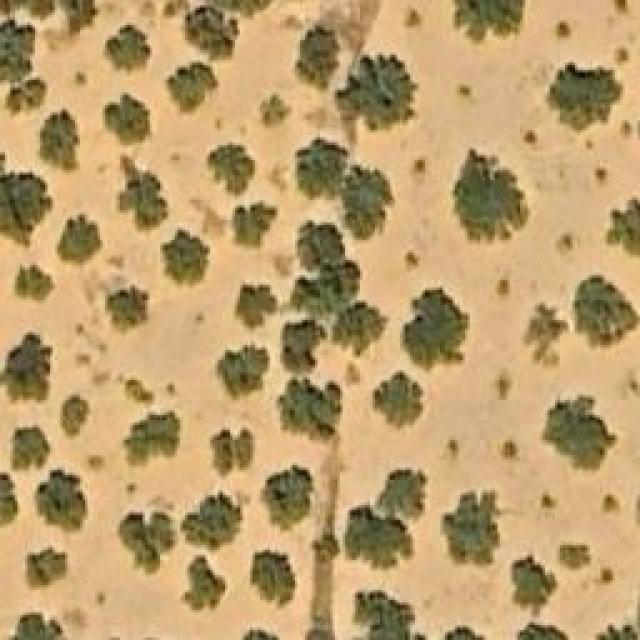Tree: (335, 53, 420, 143), (452, 148, 530, 243), (540, 395, 618, 473), (400, 290, 470, 373), (570, 275, 640, 350), (0, 145, 52, 245), (547, 65, 625, 130), (115, 147, 170, 235), (433, 0, 528, 48), (442, 493, 500, 566), (118, 513, 178, 576), (180, 490, 240, 553), (338, 168, 391, 238), (0, 332, 52, 402), (260, 465, 313, 533), (295, 260, 358, 316), (123, 410, 183, 468), (283, 380, 343, 438), (293, 140, 348, 203), (33, 470, 88, 533), (370, 370, 423, 433), (352, 587, 415, 640), (215, 343, 270, 403), (345, 513, 405, 568), (38, 108, 83, 181), (250, 548, 295, 611), (510, 552, 558, 610), (103, 93, 153, 148), (295, 28, 338, 91), (168, 64, 221, 115), (523, 305, 567, 366), (180, 555, 225, 613), (207, 143, 255, 196), (163, 228, 208, 283), (230, 200, 275, 255), (105, 25, 153, 75), (290, 220, 340, 268), (383, 465, 428, 515), (0, 20, 35, 83), (605, 198, 640, 258), (8, 612, 81, 640), (10, 423, 50, 473), (25, 545, 68, 590), (213, 430, 253, 475), (335, 303, 375, 348), (60, 215, 100, 258), (190, 10, 230, 53), (15, 265, 55, 303), (237, 285, 275, 325), (283, 323, 313, 373), (60, 392, 90, 440), (108, 288, 148, 323), (120, 375, 158, 408), (10, 75, 45, 110), (0, 473, 18, 536), (260, 95, 290, 128), (558, 545, 593, 570), (315, 535, 338, 563), (538, 490, 563, 515), (495, 368, 513, 401), (498, 438, 518, 461), (405, 8, 423, 33), (495, 270, 510, 300), (615, 48, 630, 73), (602, 493, 620, 513), (457, 85, 475, 103), (600, 567, 615, 585)
